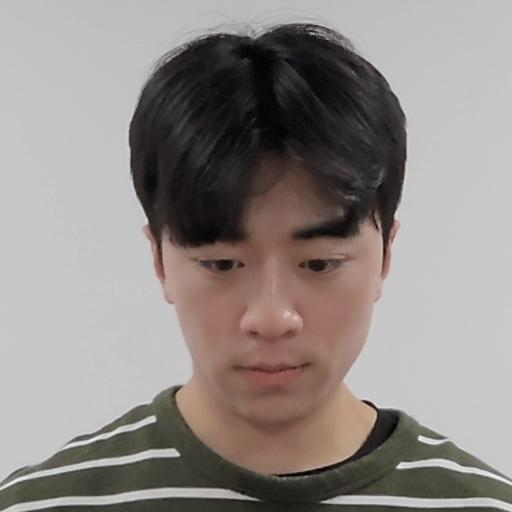no_glasses: (121, 26, 413, 420)
